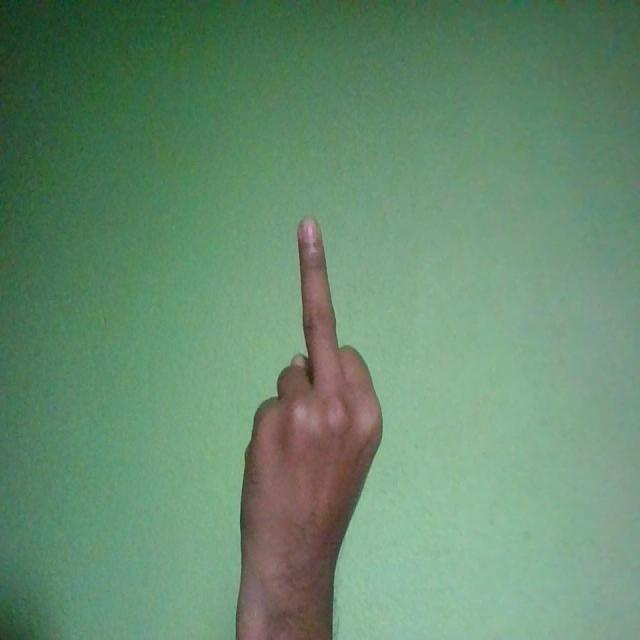Middle Finger: (239, 214, 384, 622)
